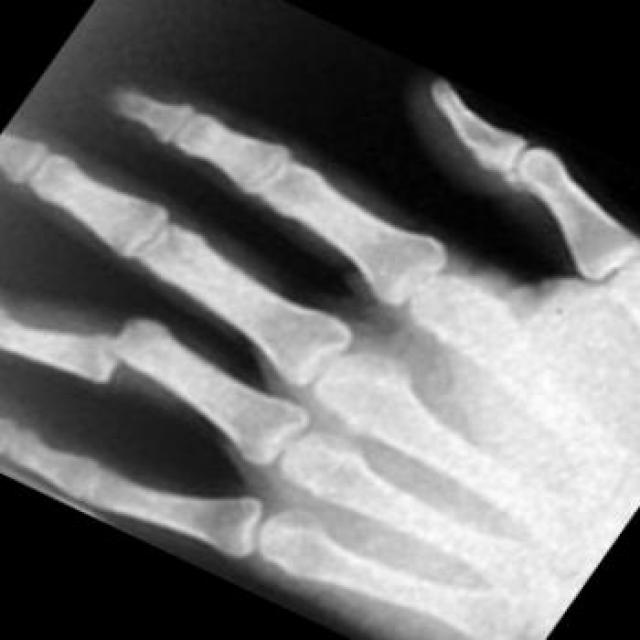Fracture: (80, 316, 164, 392)
